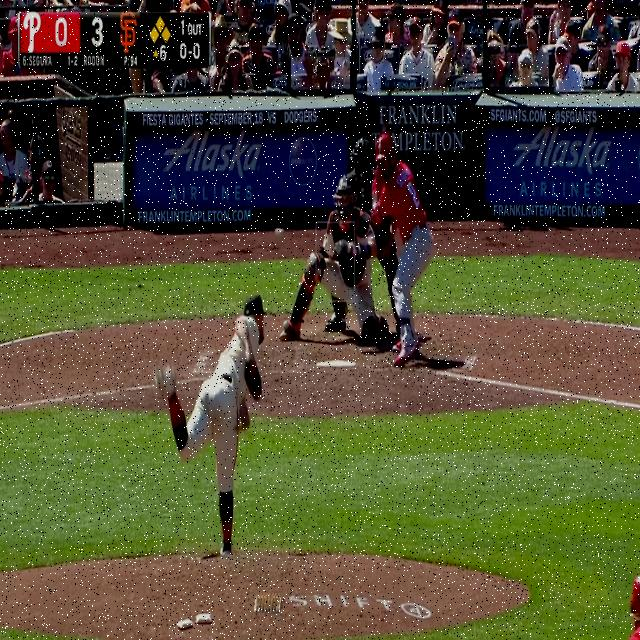baseball: (275, 228, 284, 238)
